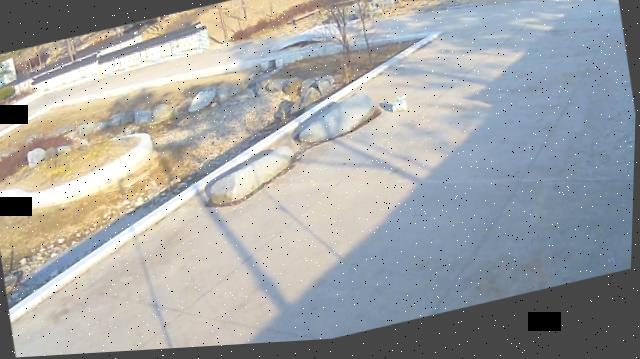trash: (390, 97, 410, 119)
